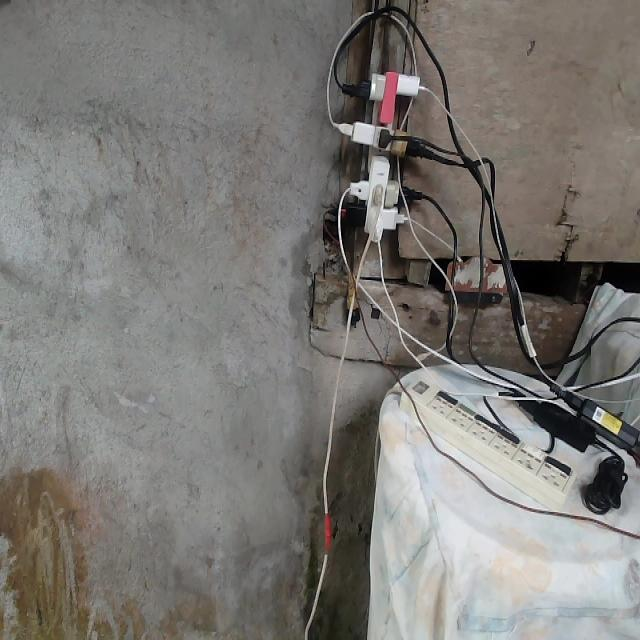-: (327, 69, 427, 243)
